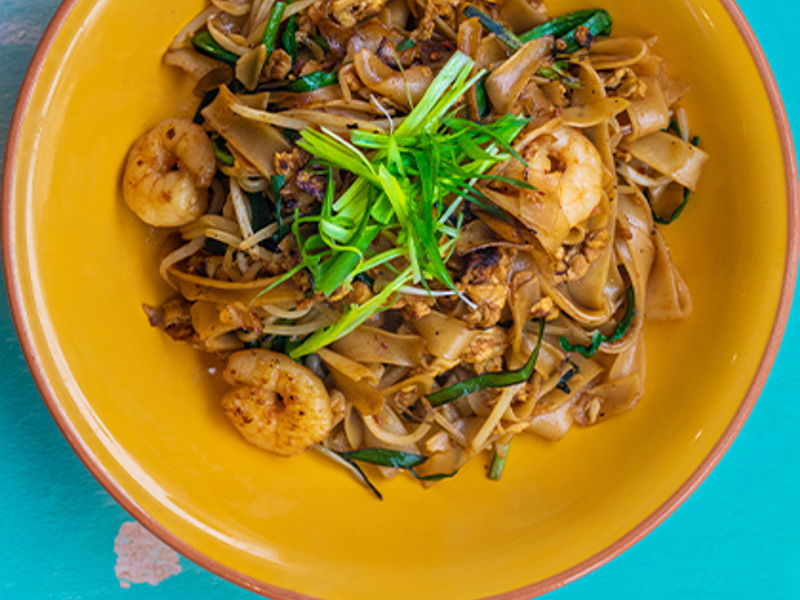Char Kway Teow: (149, 8, 719, 455)
